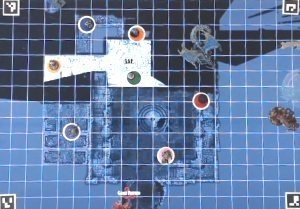blue: (75, 12, 96, 37)
green: (124, 69, 148, 89)
orange: (127, 23, 147, 42)
pink: (154, 145, 178, 166)
red: (190, 89, 210, 110)
violet: (61, 122, 81, 143)
yellow: (45, 56, 62, 74)
